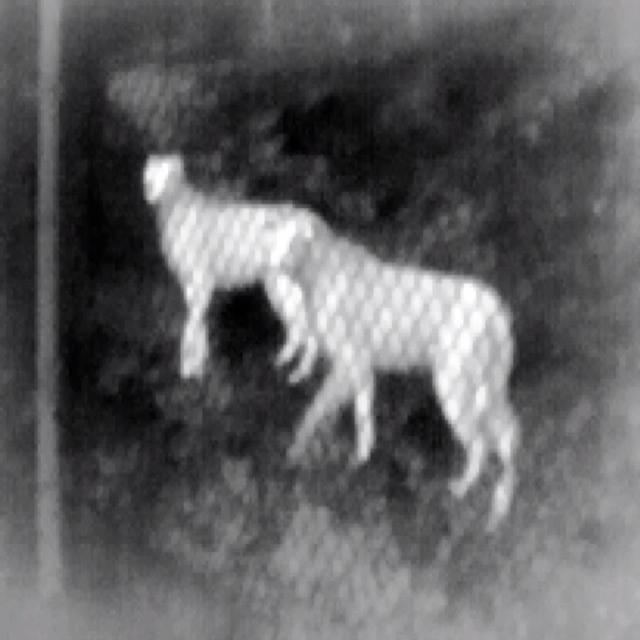cheetah: (279, 219, 518, 536), (144, 155, 341, 384)
